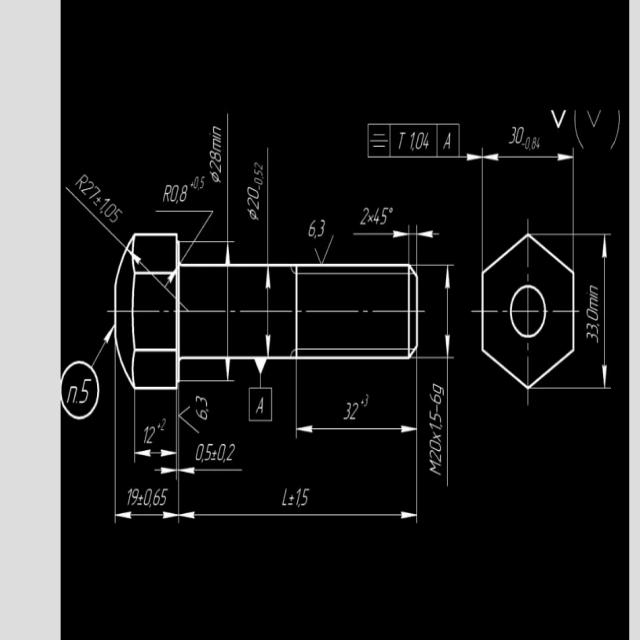marking_line: (179, 510, 418, 521), (598, 234, 610, 391), (297, 424, 415, 438), (221, 244, 232, 381), (366, 153, 481, 165), (262, 270, 274, 362), (153, 466, 245, 477), (441, 266, 452, 356), (485, 152, 572, 162), (353, 227, 408, 241), (114, 510, 177, 522), (133, 445, 174, 461), (417, 225, 442, 241)
numeric: (78, 173, 126, 224), (509, 123, 548, 155), (242, 155, 264, 210), (194, 442, 237, 466), (128, 484, 170, 507), (359, 204, 397, 227), (282, 481, 311, 509), (584, 308, 601, 350), (193, 394, 215, 424), (144, 418, 169, 444), (207, 130, 222, 171), (306, 216, 328, 238), (171, 181, 187, 206)
special_symbol: (583, 98, 603, 129), (548, 104, 569, 130)
